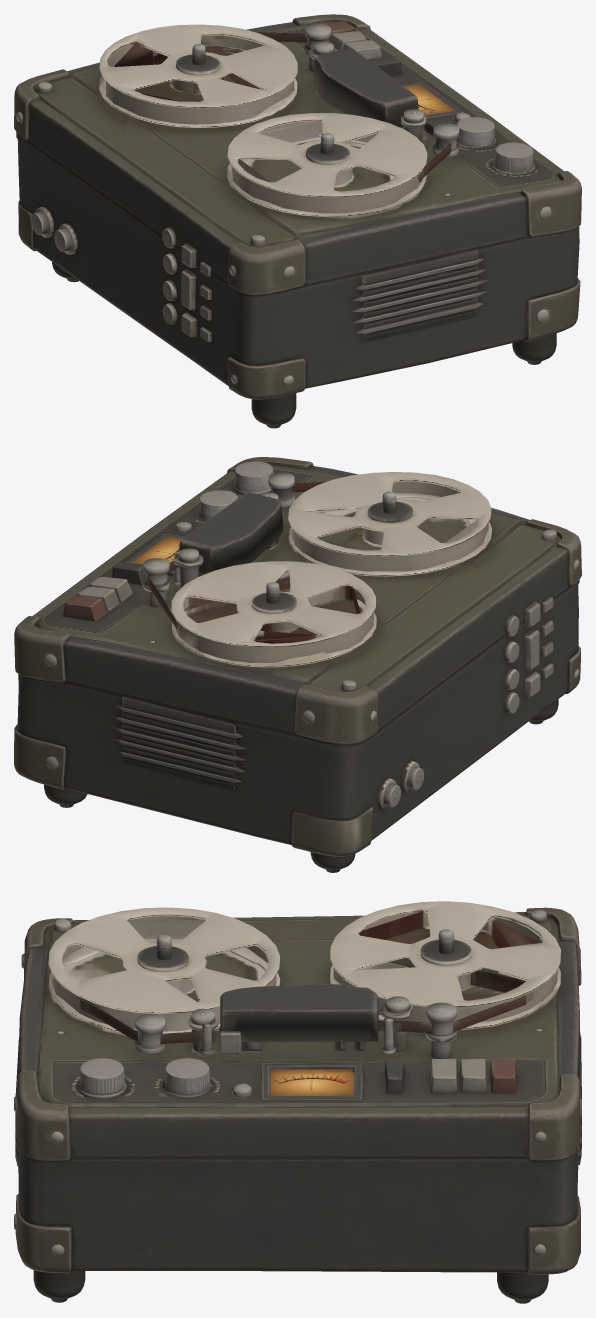
The model's file is recorder.glb.
The picture shows the model from 3 angles, top to bottom: view 1: azimuth 30°, elevation 25°; view 2: azimuth 150°, elevation 25°; view 3: azimuth 270°, elevation 25°; orthographic projection. The views are drawn at different scales.
Parts seen in each view (by area): view 1: tripo_node_d511d5d2; view 2: tripo_node_d511d5d2; view 3: tripo_node_d511d5d2.
Boxes of the visible parts, <box> form: tripo_node_d511d5d2: <box>14,14,581,428</box>; tripo_node_d511d5d2: <box>14,457,581,872</box>; tripo_node_d511d5d2: <box>14,901,581,1303</box>.
Size of the model in its own units: 0.4814 by 0.3074 by 0.58.
Materials: 1 (1 with a texture image).
